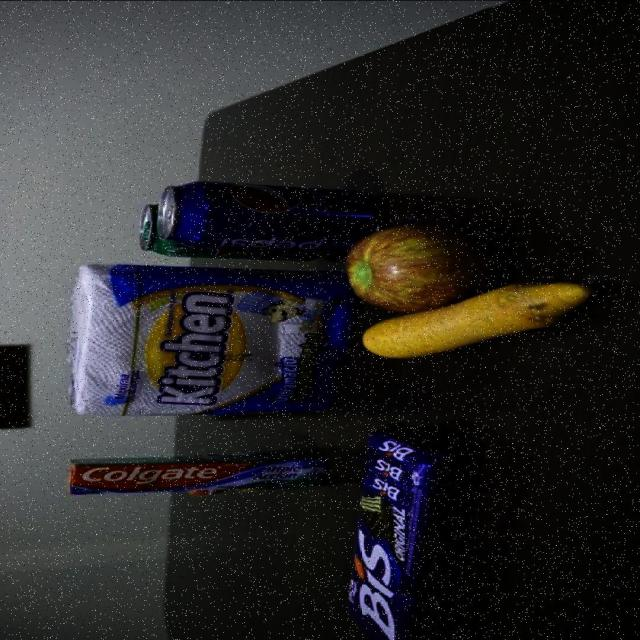Apple: (344, 224, 502, 299)
Carrot: (363, 302, 580, 356)
Napkin: (72, 267, 342, 419)
SodaCan: (162, 179, 342, 245)
Toothpaste: (67, 444, 330, 495)
